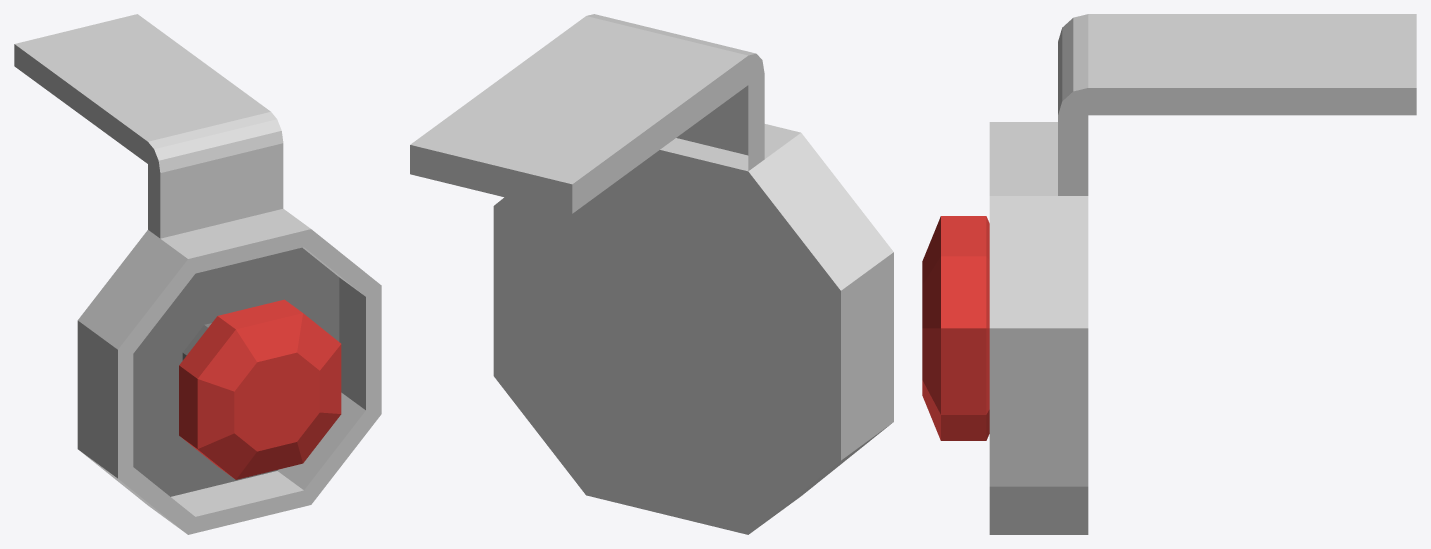
The model's file is Button.fbx.
3 views of the same model, side by side, from view 1: azimuth 30°, elevation 25°; view 2: azimuth 150°, elevation 25°; view 3: azimuth 270°, elevation 25° (orthographic). The views are drawn at different scales.
Parts seen in each view (by area): view 1: Plane.015; view 2: Plane.015; view 3: Plane.015.
Part boxes in pixels (<box>): Plane.015: <box>14,14,381,534</box>; Plane.015: <box>410,14,893,534</box>; Plane.015: <box>922,14,1416,534</box>.
Size of the model in its own units: 45.59 by 60.12 by 60.25.
